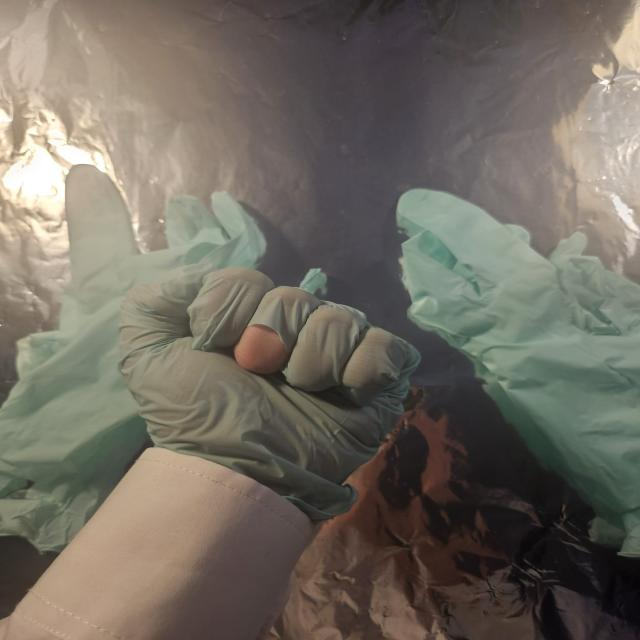gloves_damaged: (113, 259, 422, 523)
